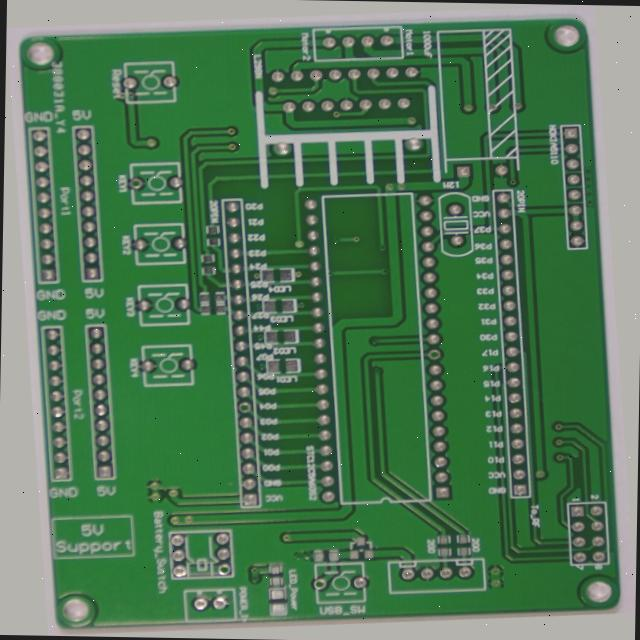missing_hole: (218, 398, 240, 415), (428, 354, 450, 370), (122, 157, 140, 173), (183, 568, 201, 583), (287, 589, 301, 604)
